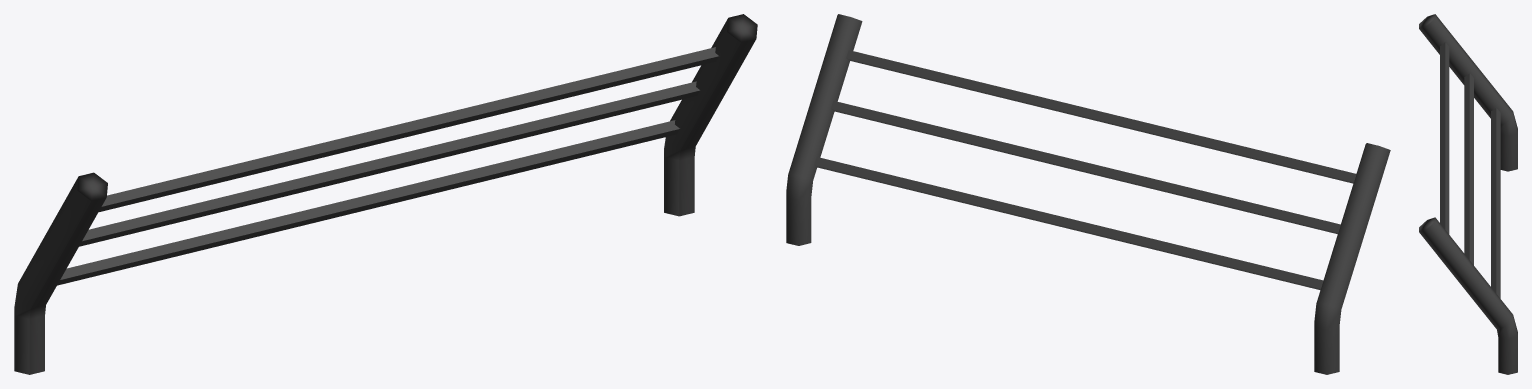
The model's file is fence_wall.fbx.
3 renders of one model, left to right at view 1: azimuth 30°, elevation 25°; view 2: azimuth 150°, elevation 25°; view 3: azimuth 270°, elevation 25°, orthographic. The views are drawn at different scales.
Visible parts, largest first — view 1: fence_wall; view 2: fence_wall; view 3: fence_wall.
Boxes of the visible parts, x1,y1,x2,y2 form: fence_wall: (14, 14, 757, 374); fence_wall: (786, 14, 1390, 374); fence_wall: (1419, 14, 1517, 374).
Bounding box in the file's own units: 3.56 × 1.17 × 0.699.
1 material, 1 textured.
